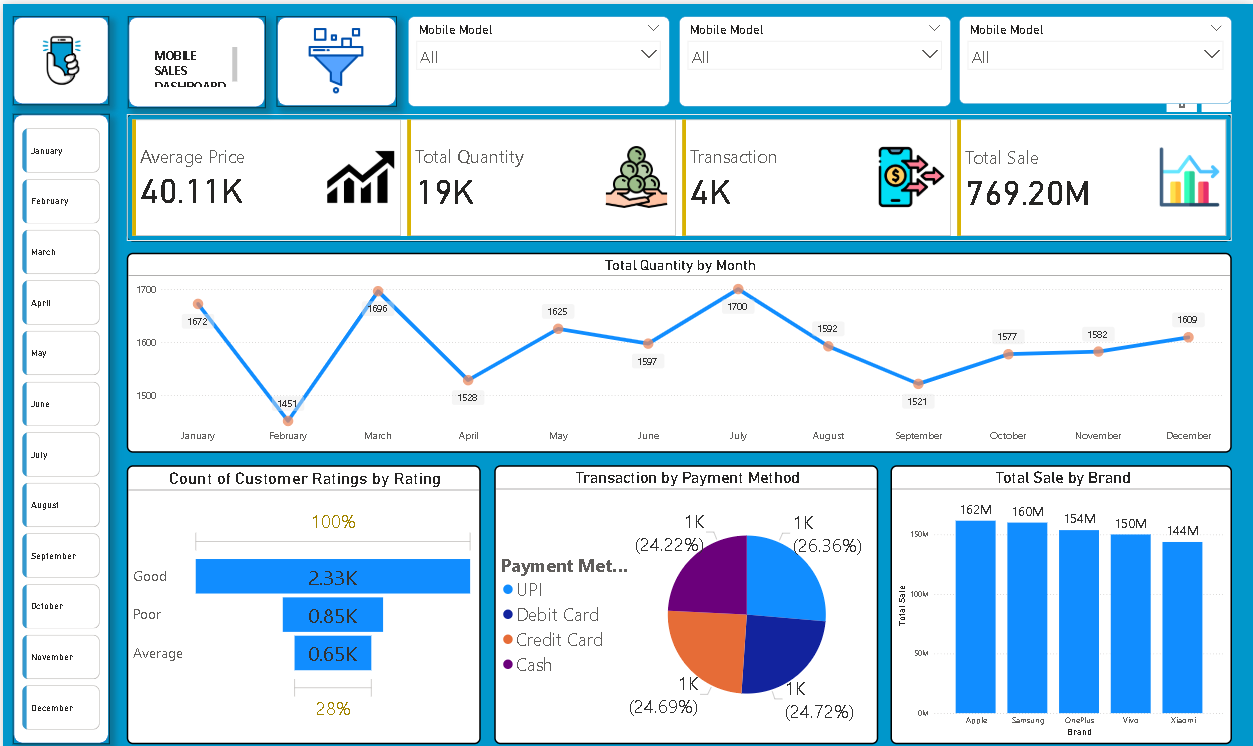

This screenshot's page, from the dashboard's own definition file:
{"tool":"powerbi","page":{"name":"Dashboard","canvas":[2000,1200],"ordinal":0},"visuals":[{"type":"shape","box":[16.5,19.2,153.7,141.3],"z":0},{"type":"image","box":[37,34.3,112.5,112.5],"z":1000},{"type":"shape","box":[16,176,154,1008],"z":1002},{"type":"advancedSlicerVisual","fields":{"Values":["Customer_calender.Date.Variation.Date Hierarchy.Month"]},"box":[26,194,134,976],"z":1003},{"type":"cardVisual","fields":{"Data":["Sales Data.Average Price","Sales Data.Total Quantity","Sales Data.Transaction","Sales Data.Total Sale"]},"box":[198,176,1768,204],"z":1004},{"type":"slicer","fields":{"Values":["Sales Data.Mobile Model"]},"box":[648,20,418,144],"z":1005},{"type":"slicer","fields":{"Values":["Sales Data.Mobile Model"]},"box":[1082,20,434,144],"z":1006},{"type":"slicer","fields":{"Values":["Sales Data.Mobile Model"]},"box":[1530,20,436,140],"z":1007},{"type":"shape","box":[438,20,192,144],"z":1008},{"type":"image","box":[462,32,142,118],"z":1009},{"type":"shape","box":[200,20,220,146],"z":1010},{"type":"textbox","box":[238,64,142,74],"z":1011},{"type":"lineChart","fields":{"Category":["Customer_calender.Date.Variation.Date Hierarchy.Month"],"Y":["Sales Data.Total Quantity"]},"box":[198,398,1768,320],"z":1012},{"type":"funnel","fields":{"Category":["Sales Data.Rating"],"Y":["CountNonNull(Sales Data.Customer Ratings)"]},"box":[198,738,566,446],"z":1013},{"type":"pieChart","fields":{"Category":["Sales Data.Payment Method"],"Y":["Sales Data.Transaction"]},"box":[786,738,614,446],"z":1014},{"type":"clusteredColumnChart","fields":{"Category":["Sales Data.Brand"],"Y":["Sales Data.Total Sale"]},"box":[1420,738,546,446],"z":1015}]}

Visuals, with their boxes in screenshot pixels (x1, y1, x2, y2), scaled from the page's 2000x1200 canvas onto the 1253x746 screenshot:
shape: select_region(10, 12, 107, 100)
image: select_region(23, 21, 94, 91)
shape: select_region(10, 109, 107, 736)
advancedSlicerVisual - Customer_calender.Date.Variation.Date Hierarchy.Month: select_region(16, 121, 100, 727)
cardVisual - Sales Data.Average Price x Sales Data.Total Quantity: select_region(124, 109, 1232, 236)
slicer - Sales Data.Mobile Model: select_region(406, 12, 668, 102)
slicer - Sales Data.Mobile Model: select_region(678, 12, 950, 102)
slicer - Sales Data.Mobile Model: select_region(959, 12, 1232, 99)
shape: select_region(274, 12, 395, 102)
image: select_region(289, 20, 378, 93)
shape: select_region(125, 12, 263, 103)
textbox: select_region(149, 40, 238, 86)
lineChart - Customer_calender.Date.Variation.Date Hierarchy.Month x Sales Data.Total Quantity: select_region(124, 247, 1232, 446)
funnel - Sales Data.Rating x CountNonNull(Sales Data.Customer Ratings): select_region(124, 459, 479, 736)
pieChart - Sales Data.Payment Method x Sales Data.Transaction: select_region(492, 459, 877, 736)
clusteredColumnChart - Sales Data.Brand x Sales Data.Total Sale: select_region(890, 459, 1232, 736)
